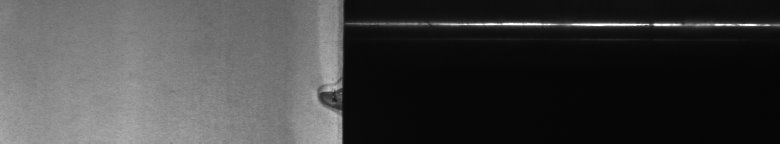hb: (309, 76, 332, 118)
